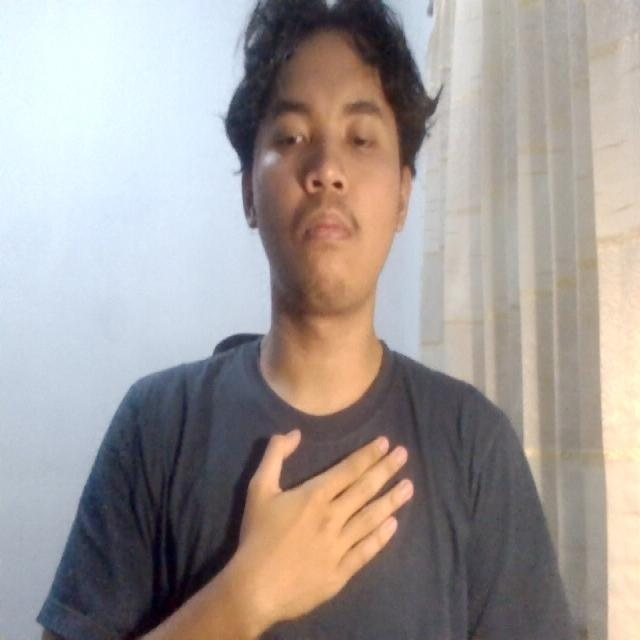Nama: (219, 402, 427, 626)
